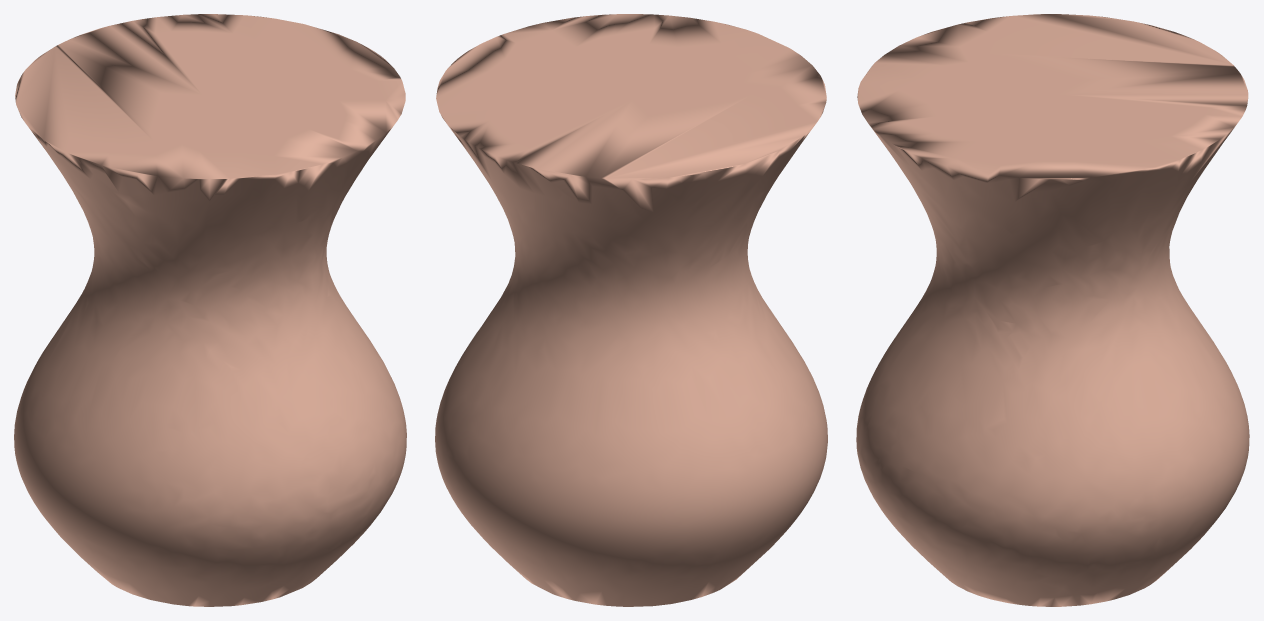
The model's file is wc-revolved-vase-001.lod1.glb.
The picture shows the model from 3 angles, left to right: view 1: azimuth 30°, elevation 25°; view 2: azimuth 150°, elevation 25°; view 3: azimuth 270°, elevation 25°; orthographic projection.
Parts seen in each view (by area): view 1: wc-revolved-vase-001; view 2: wc-revolved-vase-001; view 3: wc-revolved-vase-001.
Part boxes in pixels (x1=…): wc-revolved-vase-001: x1=14, y1=14, x2=406, y2=606; wc-revolved-vase-001: x1=435, y1=14, x2=827, y2=606; wc-revolved-vase-001: x1=856, y1=14, x2=1249, y2=606.
Size of the model in its own units: 0.2707 by 0.35 by 0.2707.
